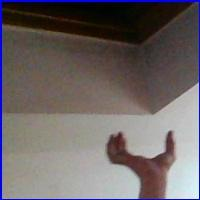space: (98, 126, 184, 178)
